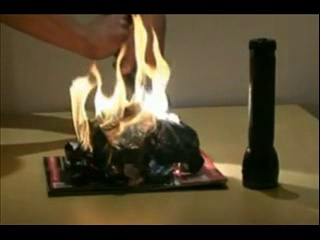fire: (130, 14, 170, 144), (92, 43, 128, 146), (70, 72, 92, 154)
